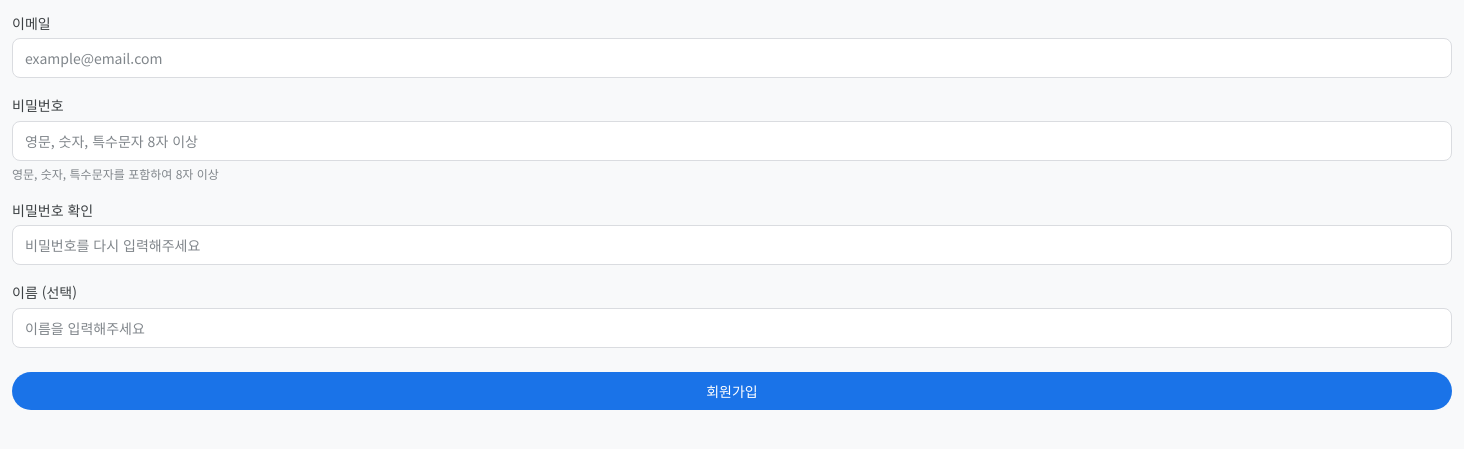
RegisterForm › 비밀번호 불일치 시 에러 메시지가 표시된다
The width and height of the screenshot is (1464, 449).
Type "test@test.com" into the field labelled "이메일" at (732, 58), box left=12, top=38, right=1452, bottom=78
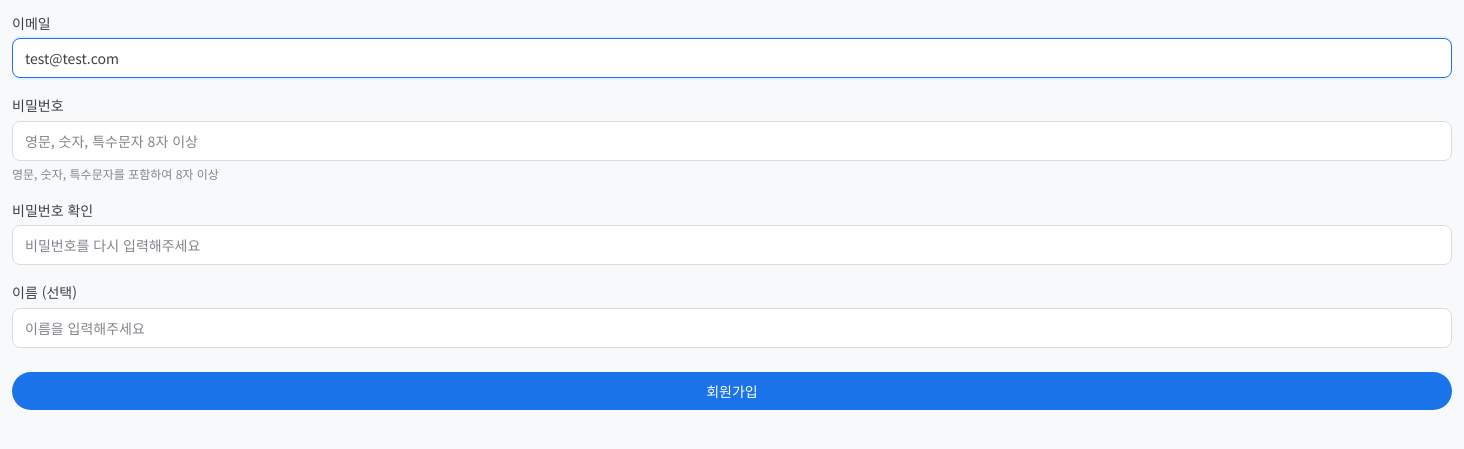
Type "Password1!" into the password field labelled "비밀번호" at (732, 141), box left=12, top=121, right=1452, bottom=161
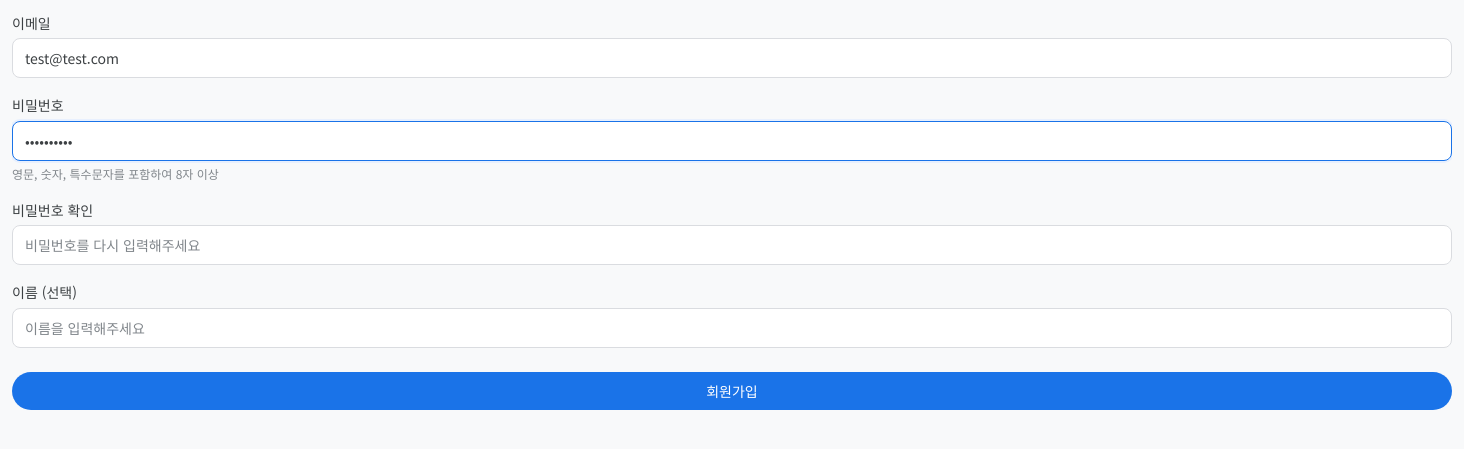
Type "DifferentPwd1!" into the password field labelled "비밀번호 확인" at (732, 245), box left=12, top=225, right=1452, bottom=265
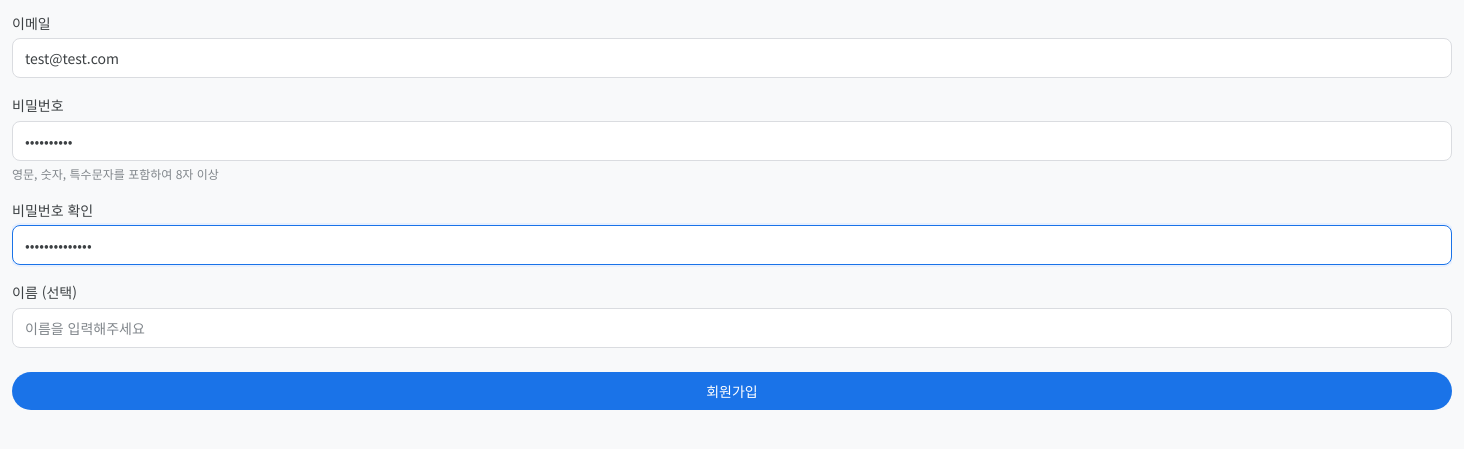
Click the button "회원가입" at (732, 391), box left=12, top=372, right=1452, bottom=410
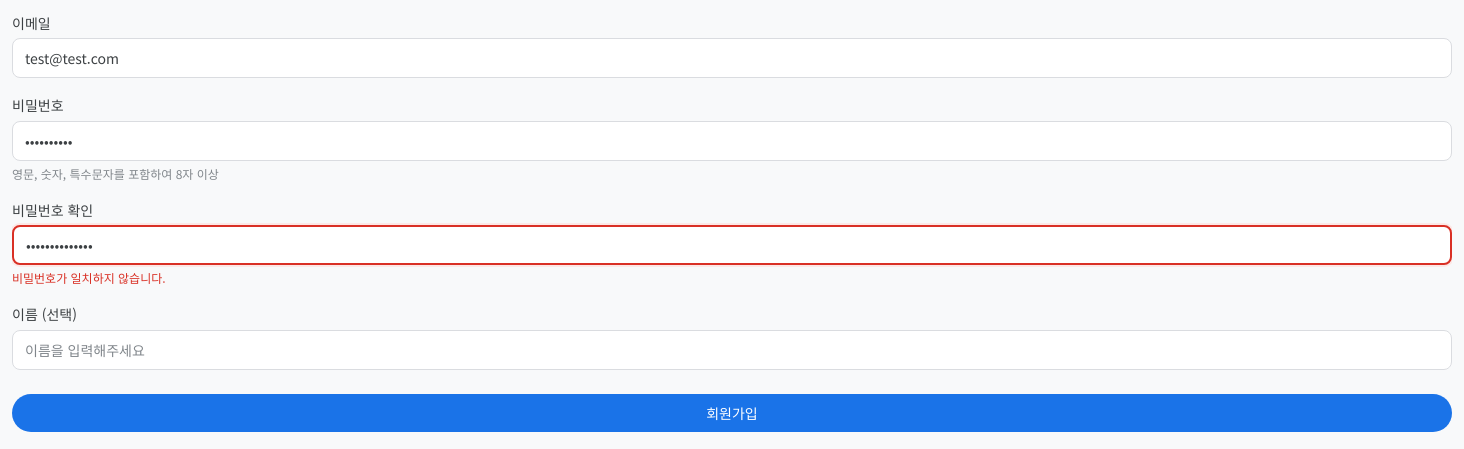
Expected: the text "비밀번호가 일치하지 않습니다." is shown, left=12, top=269, right=166, bottom=286
